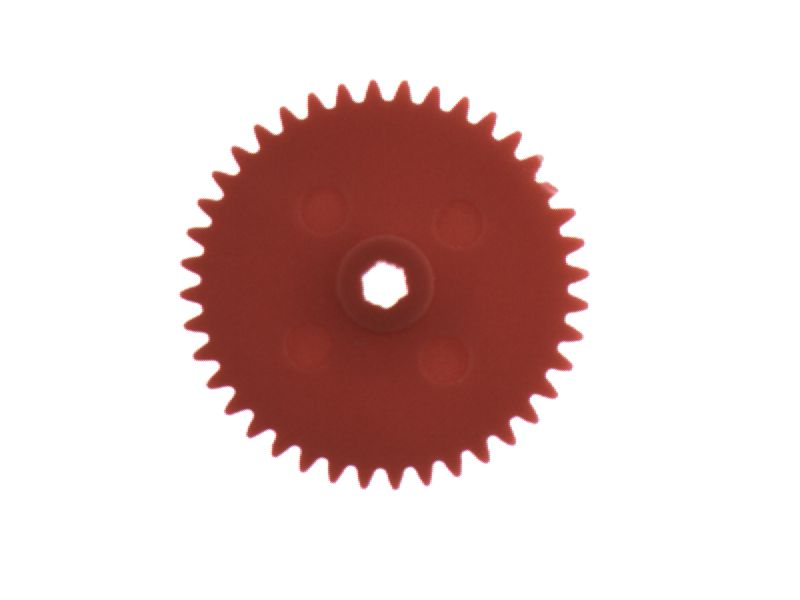defect_break: (533, 169, 567, 203)
